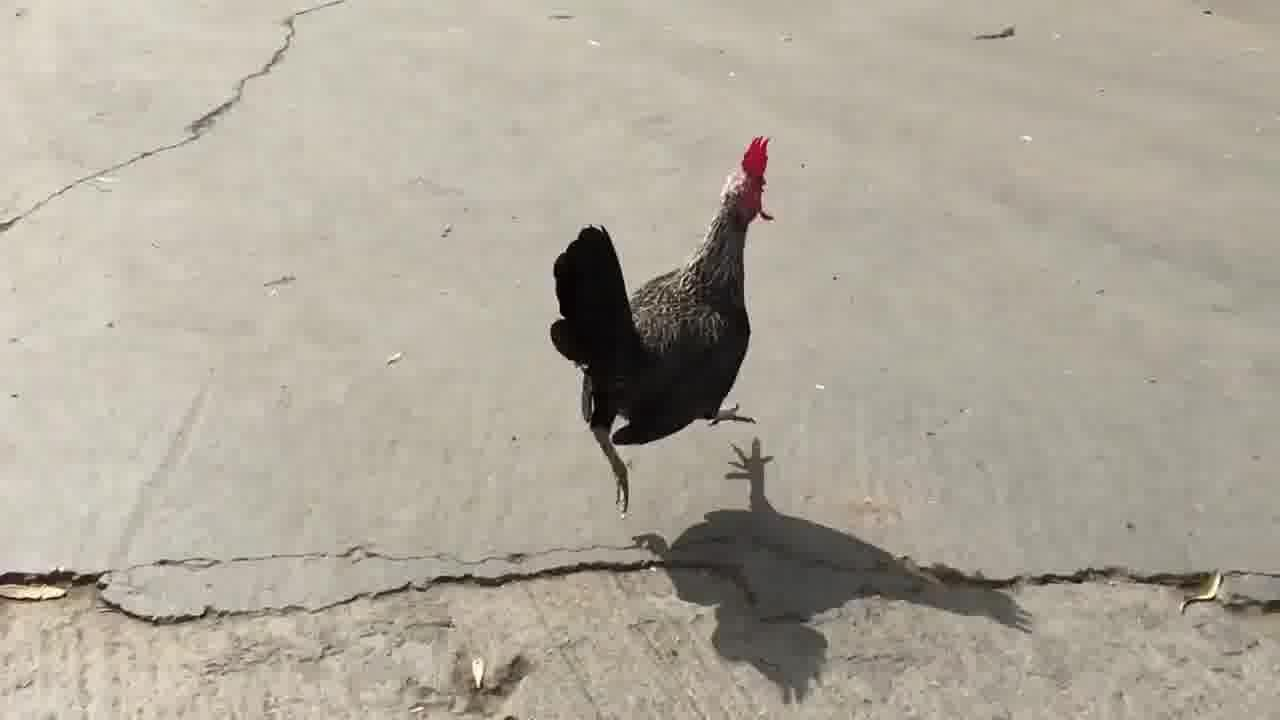Normal: (556, 114, 786, 514)
